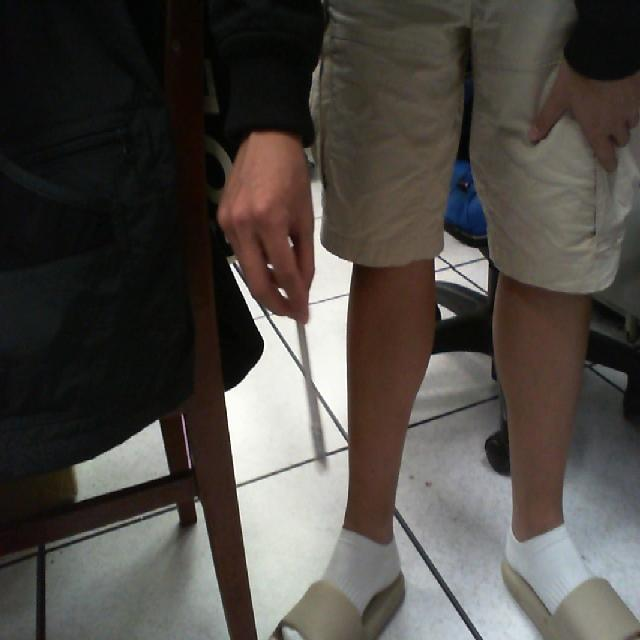Pen: (264, 230, 344, 508)
